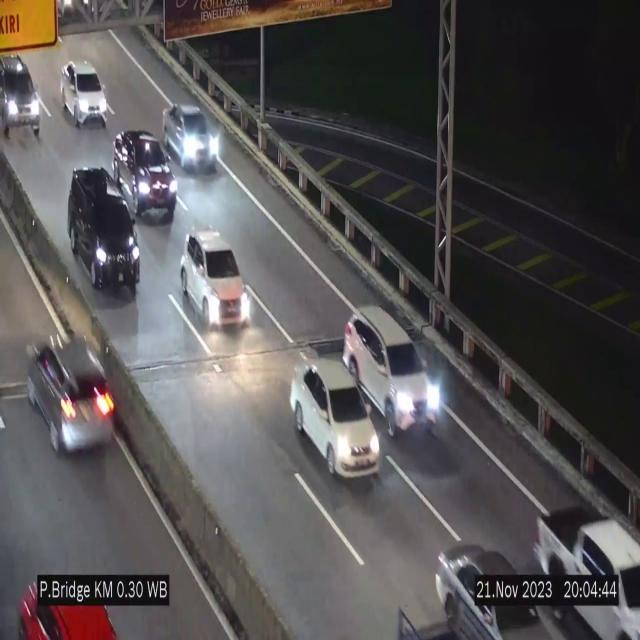Car: (20, 313, 125, 478), (533, 481, 640, 640), (343, 306, 444, 433), (439, 530, 549, 640), (290, 362, 380, 477), (66, 167, 142, 296), (20, 562, 120, 640), (180, 230, 250, 326), (113, 123, 178, 222), (0, 41, 42, 134), (163, 103, 221, 170), (62, 61, 108, 129)
